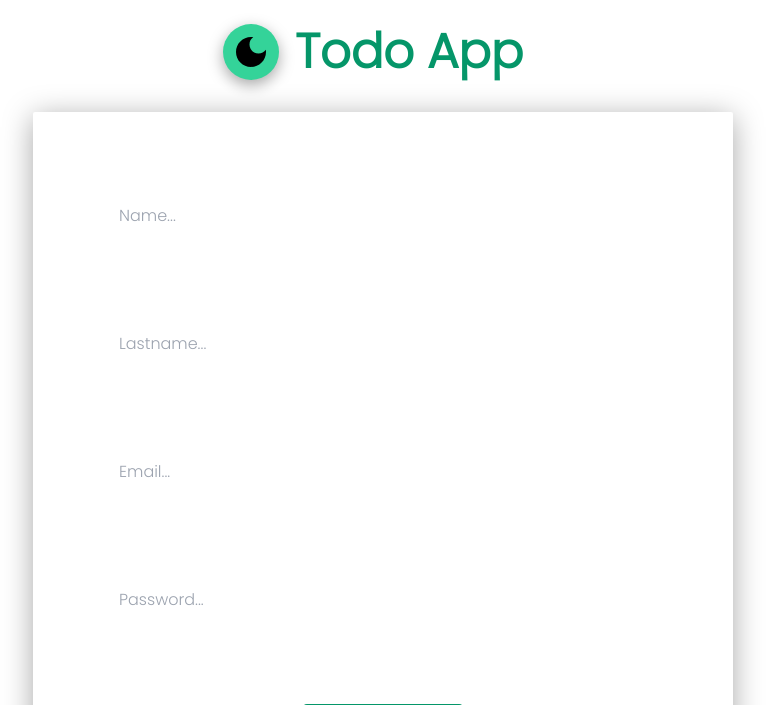
Test case: Users › Register tests › Register fails if format data is invalid
The image size is (767, 705).
Step 1. Type "12345" into the field with placeholder "Name..." → (383, 216), box [103,192,663,240]
Step 2. Type "12345" into the field with placeholder "Lastname..." → (383, 344), box [103,320,663,368]
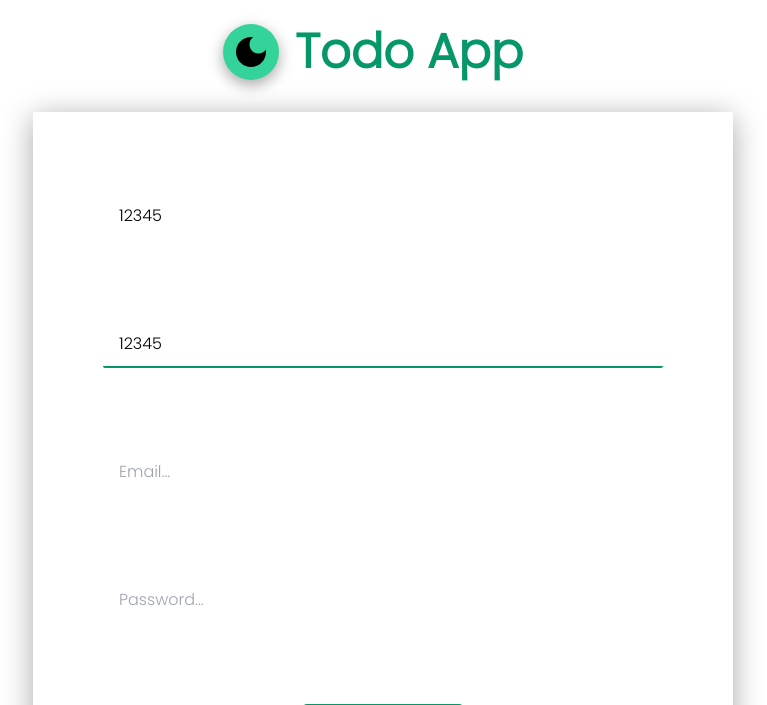
Step 3. Type "12345" into the field with placeholder "Email..." → (383, 472), box [103,448,663,496]
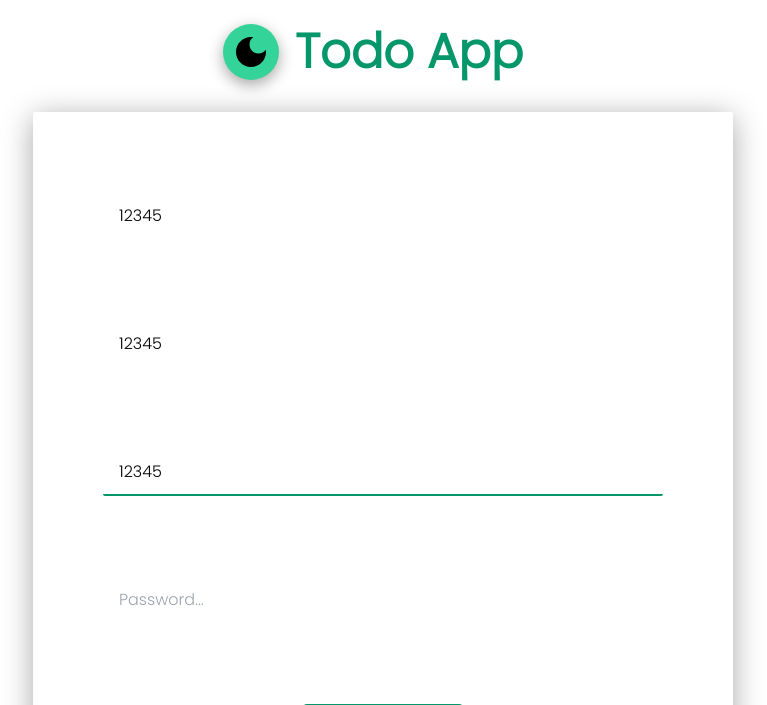
Step 4. Type "12345" into the password field with placeholder "Password..." → (383, 600), box [103,576,663,624]
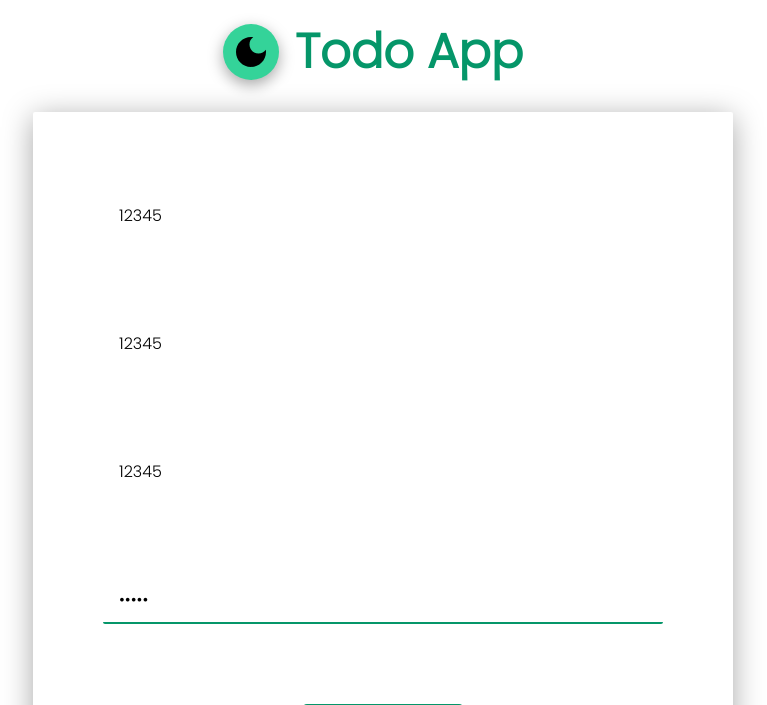
Step 5. Scroll
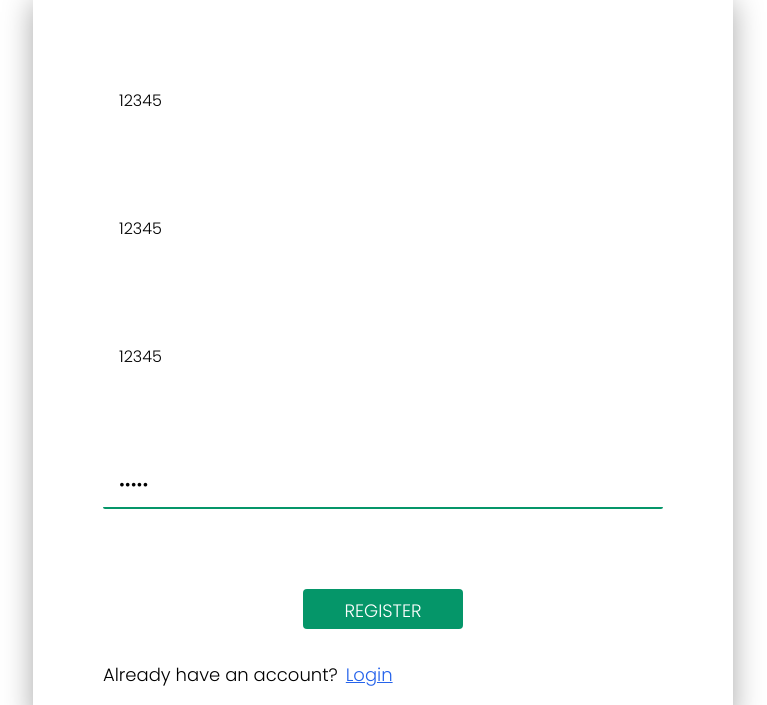
Step 6. Click the button titled "Register button" → (383, 609), box [303,589,463,629]
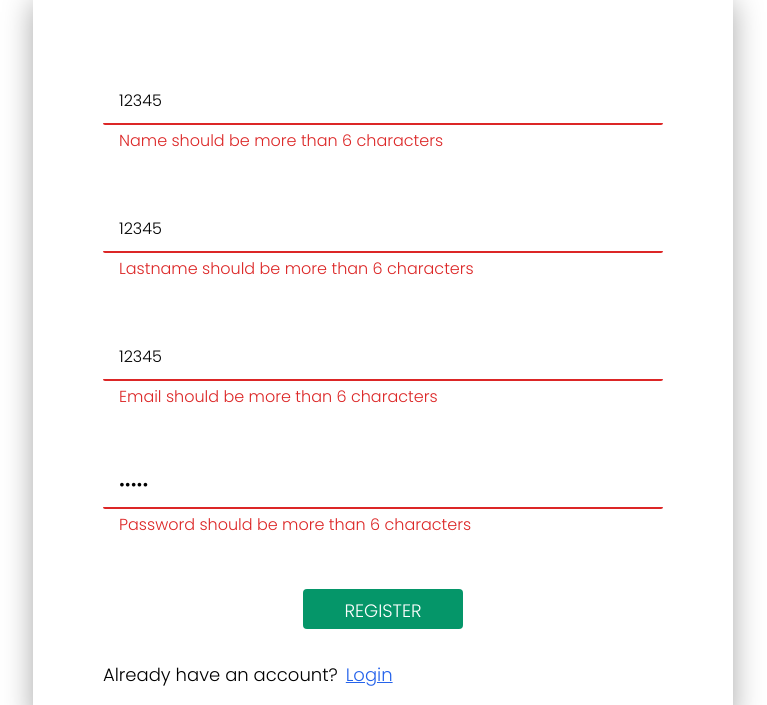
Result: the text "Name should be more than 6 characters" is shown at [119,129,443,152]
Result: the text "Lastname should be more than 6 characters" is shown at [119,257,474,280]
Result: the text "Email should be more than 6 characters" is shown at [119,385,438,408]
Step 7. Type "6" into the 3rd field with placeholder "Email..." → (383, 357), box [103,333,663,381]
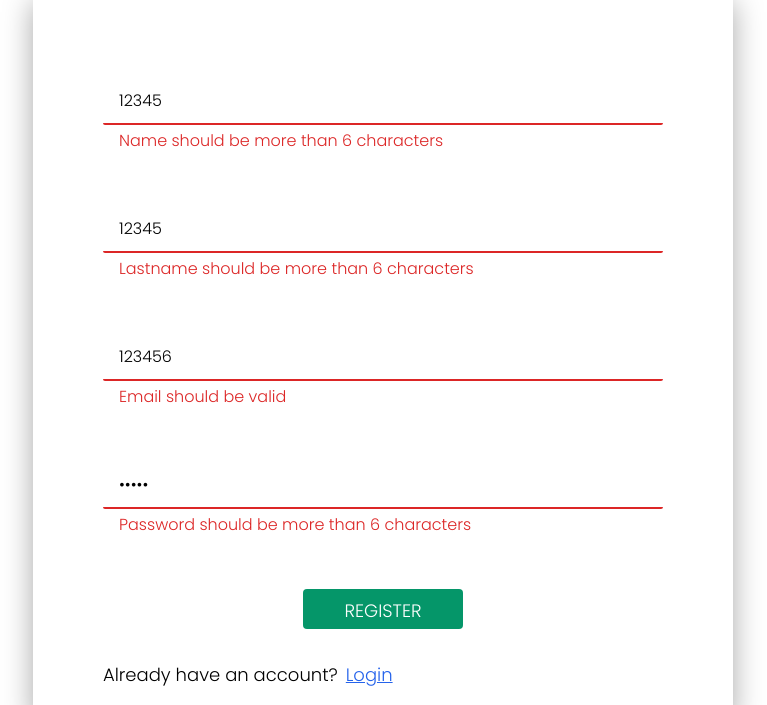
Result: the text "Email should be valid" is shown at [119,385,286,408]
